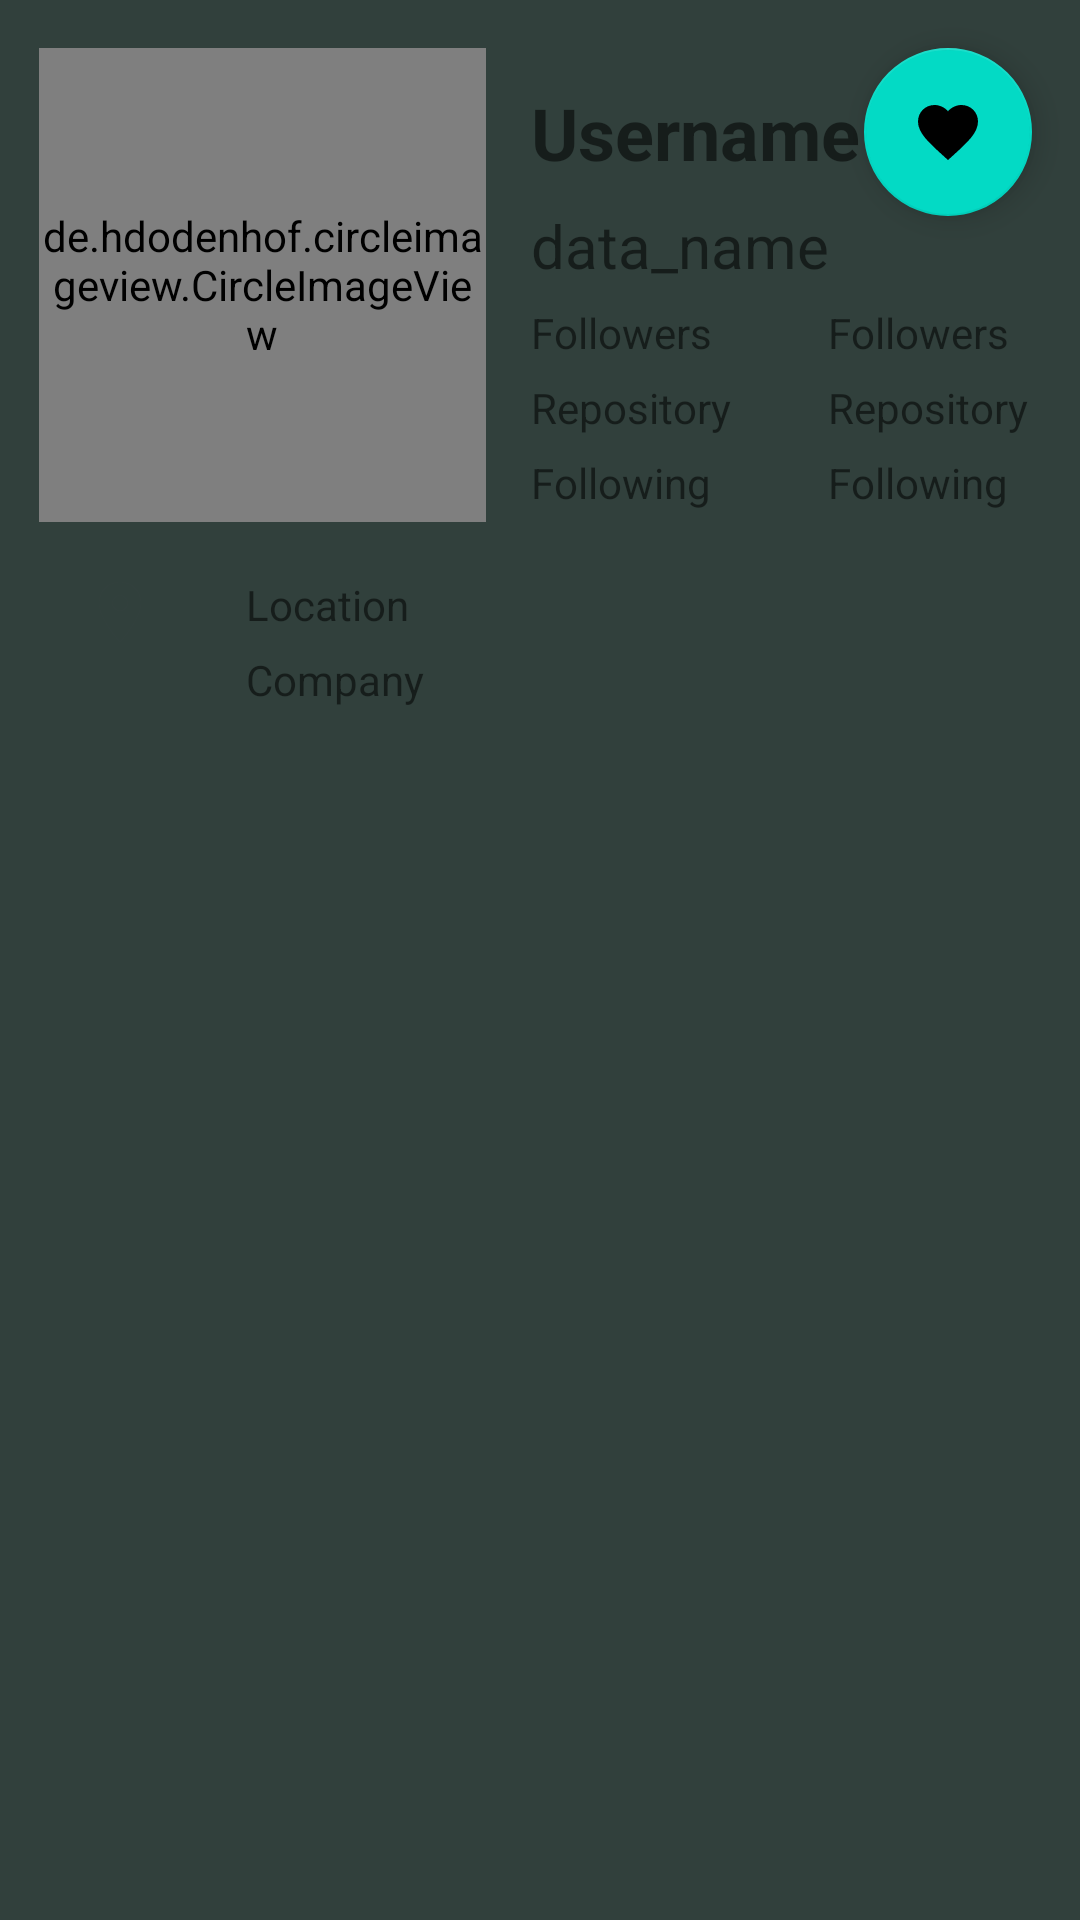

Icons on this 1080x1920 Android screen, each with its box as bbox(x1, y1, x2, y2):
favourite: bbox(864, 48, 1032, 216)
